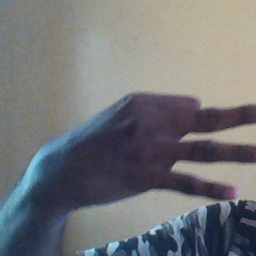K: (55, 90, 256, 206)
